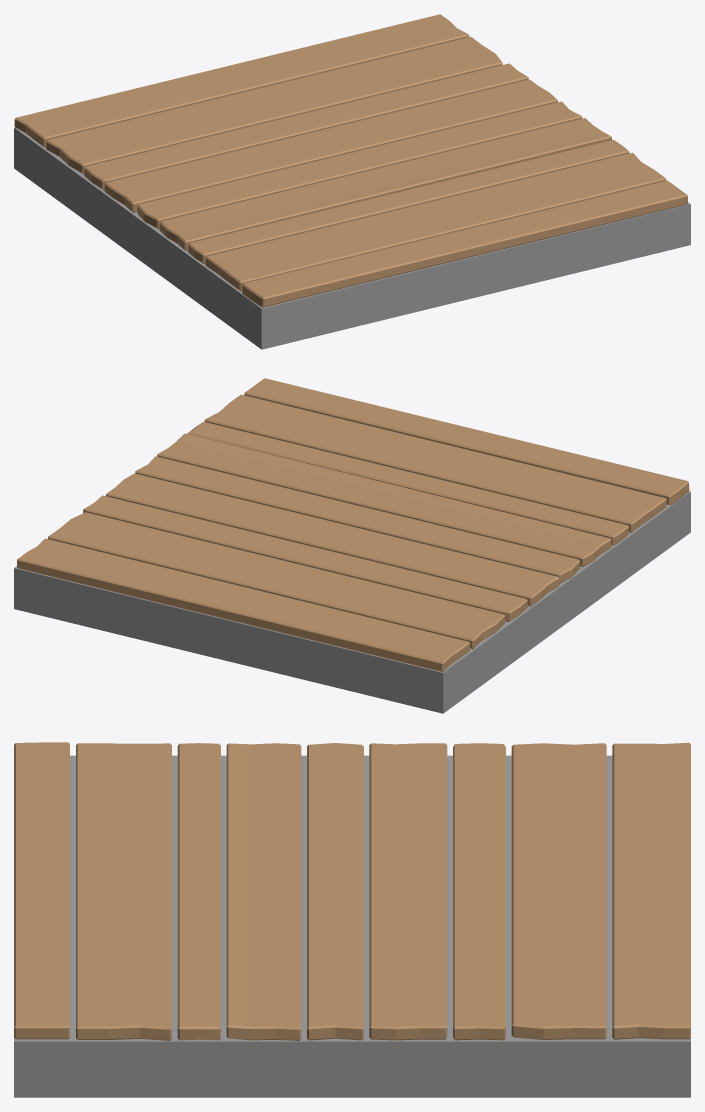
Rendered from Foundation A.glb.
3 views of the same model, one above another, from view 1: azimuth 30°, elevation 25°; view 2: azimuth 150°, elevation 25°; view 3: azimuth 270°, elevation 25° (orthographic). The views are drawn at different scales.
Visible parts, largest first — view 1: Foundation A; view 2: Foundation A; view 3: Foundation A.
Part boxes in pixels (x1,y1,x2,y2): Foundation A: (14,14,690,349); Foundation A: (14,378,690,713); Foundation A: (14,742,690,1097).
Bounding box in the file's own units: 330 × 38.38 × 330.
